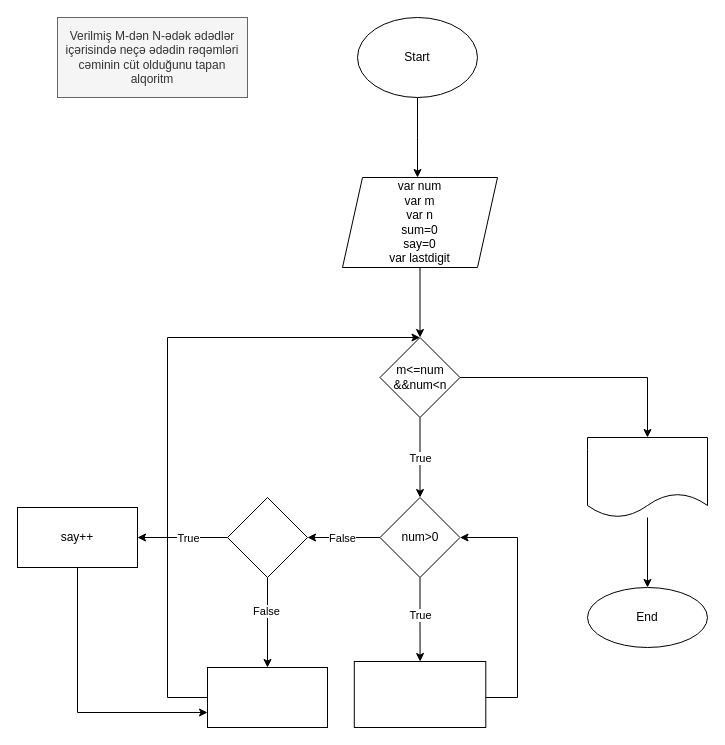
The diagram is 725 pixels wide and 745 high, and some of its shapes have lost their labels. Here are the shapes that lost their labels. From the top down, the centre of each, then its label:
the point at 647,477: Say
the point at 267,537: sum%2==0
the point at 267,697: sum=0 num++
the point at 419,694: lastDigit=num%10 sum+=lasDigit num=(num-lasDigit)/10
